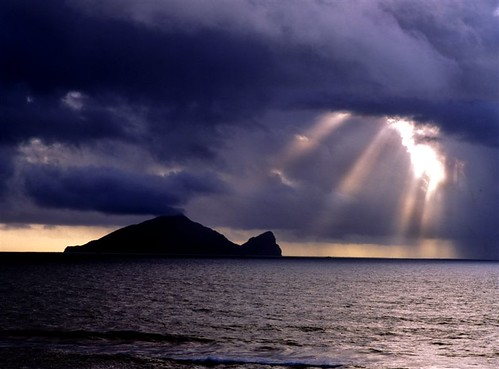turtleIsland: (62, 213, 284, 260)
